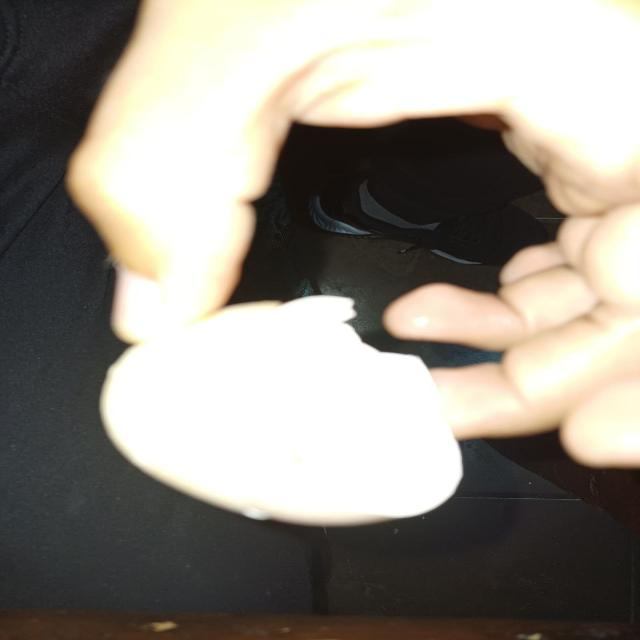organic: (84, 292, 468, 529)
